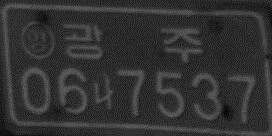0: (21, 66, 52, 115)
3: (190, 71, 222, 122)
5: (154, 70, 186, 118)
6: (58, 68, 88, 115)
7: (226, 72, 257, 124), (116, 68, 147, 117)
광주_D: (61, 22, 204, 63)
나: (91, 73, 115, 111)
영: (19, 20, 55, 60)
